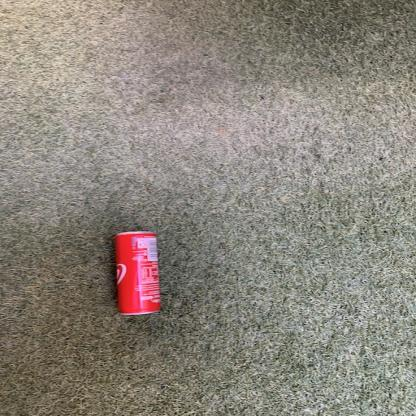trash: (106, 231, 166, 317)
